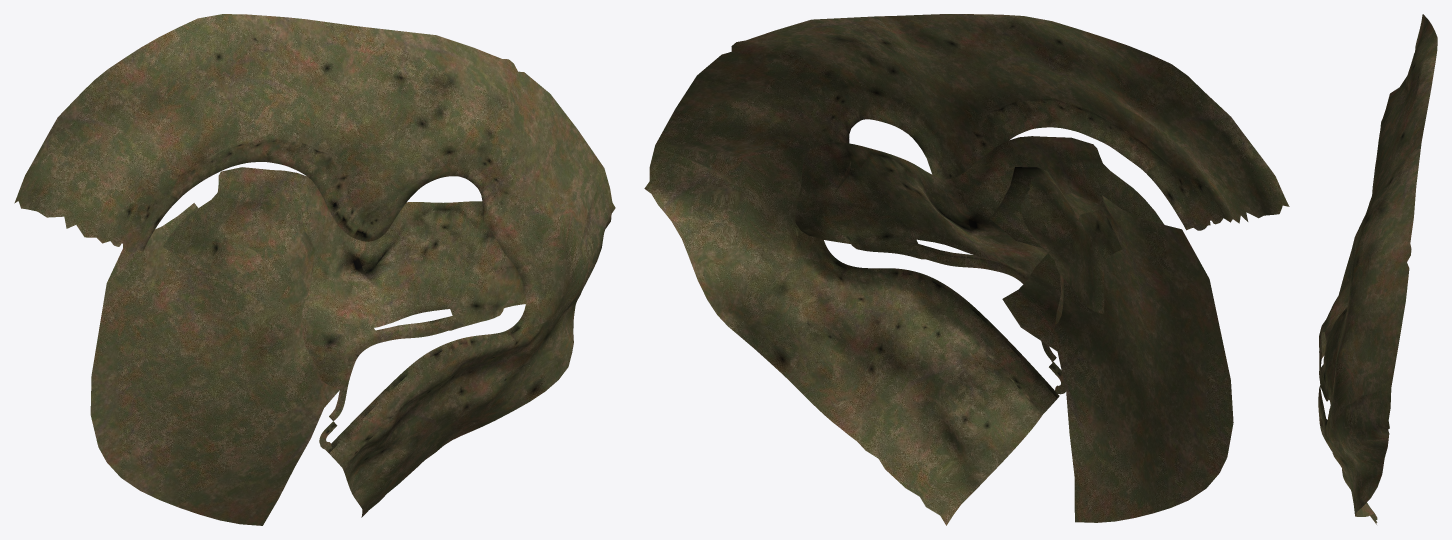
File: trava_visoka.glb
3 renders of one model, left to right at view 1: azimuth 30°, elevation 25°; view 2: azimuth 150°, elevation 25°; view 3: azimuth 270°, elevation 25°, orthographic. The views are drawn at different scales.
Parts seen in each view (by area): view 1: Background_Tree_Atlas.021_Aerial_Grass_0; view 2: Background_Tree_Atlas.021_Aerial_Grass_0; view 3: Background_Tree_Atlas.021_Aerial_Grass_0.
Boxes of the visible parts, x1,y1,x2,y2 form: Background_Tree_Atlas.021_Aerial_Grass_0: (14,14,615,525); Background_Tree_Atlas.021_Aerial_Grass_0: (644,14,1289,525); Background_Tree_Atlas.021_Aerial_Grass_0: (1318,14,1437,524).
Size of the model in its own units: 379 by 312 by 77.48.
1 material, 1 textured.
